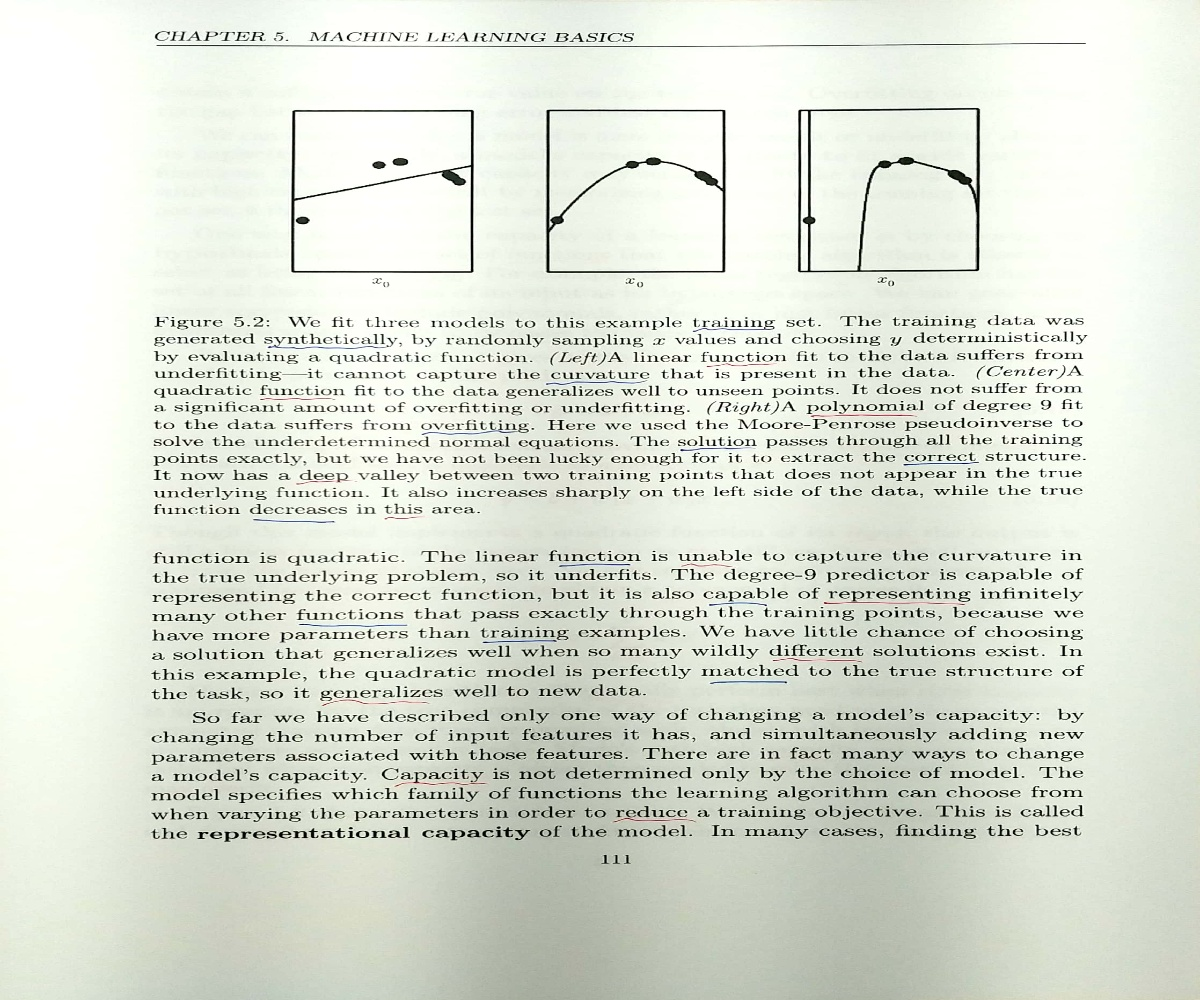underline: (822, 598, 966, 608), (294, 620, 406, 629), (319, 698, 429, 707), (710, 676, 790, 688), (263, 343, 389, 350), (393, 777, 488, 786), (810, 411, 913, 419), (676, 444, 758, 454), (772, 654, 863, 663), (544, 379, 652, 386), (612, 816, 696, 825), (249, 517, 339, 525), (690, 326, 774, 334), (476, 637, 558, 645), (419, 429, 528, 435), (677, 561, 735, 572), (703, 361, 779, 369), (258, 393, 334, 401), (294, 478, 358, 487), (705, 598, 767, 607), (383, 513, 431, 524), (555, 562, 632, 568), (900, 461, 980, 466)
